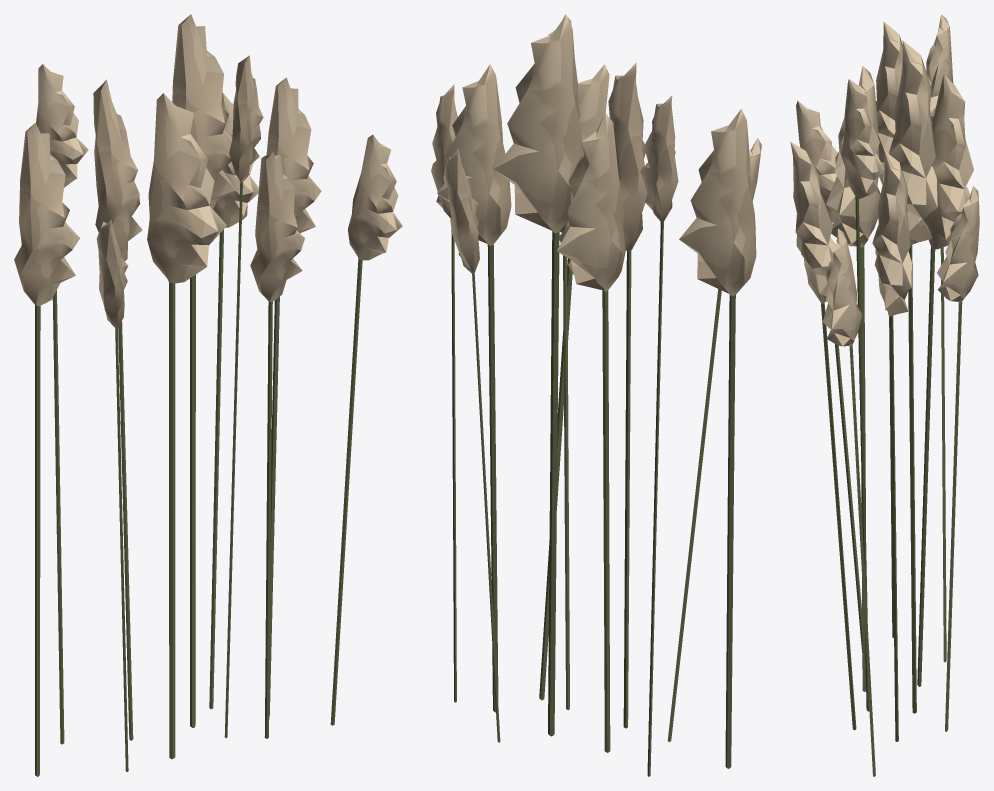
Rendered from swp_Env_Toetoe_01.glb.
3 views of the same model, side by side, from view 1: azimuth 30°, elevation 25°; view 2: azimuth 150°, elevation 25°; view 3: azimuth 270°, elevation 25° (orthographic). The views are drawn at different scales.
Visible parts, largest first — view 1: SM_Env_Toetoe_01_LOD0; view 2: SM_Env_Toetoe_01_LOD0; view 3: SM_Env_Toetoe_01_LOD0.
Boxes of the visible parts, x1,y1,x2,y2 form: SM_Env_Toetoe_01_LOD0: (14, 14, 402, 776); SM_Env_Toetoe_01_LOD0: (431, 14, 761, 776); SM_Env_Toetoe_01_LOD0: (790, 14, 979, 776).
Bounding box in the file's own units: 2.6 × 5.14 × 1.3.
Materials: 1 (1 with a texture image).
